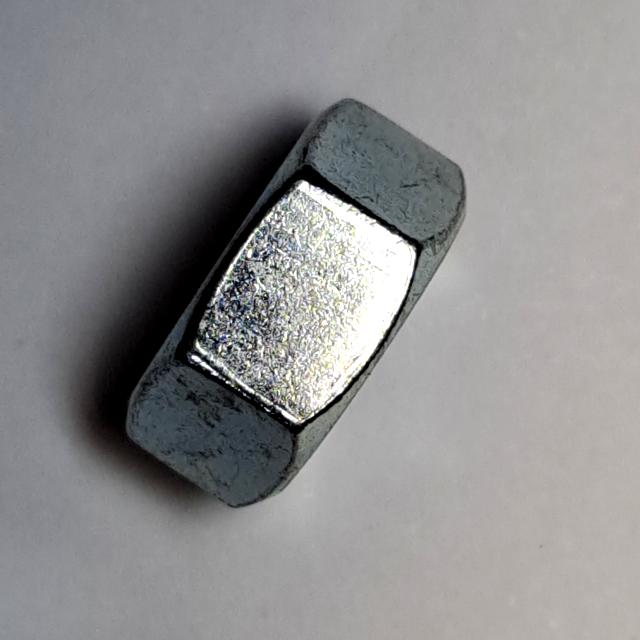Side_Excellent: (102, 79, 499, 526)
